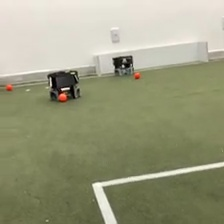ball: (56, 91, 68, 103), (133, 70, 141, 79), (5, 82, 13, 91)
goal: (92, 38, 210, 78)
robot: (45, 68, 82, 103), (111, 54, 136, 78)
